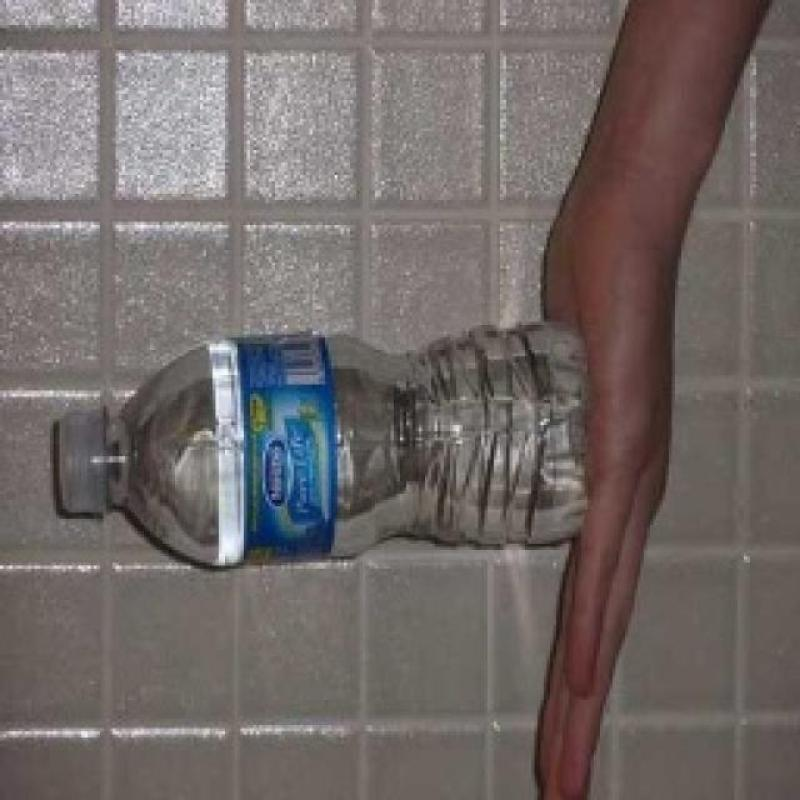botella: (48, 317, 590, 571)
